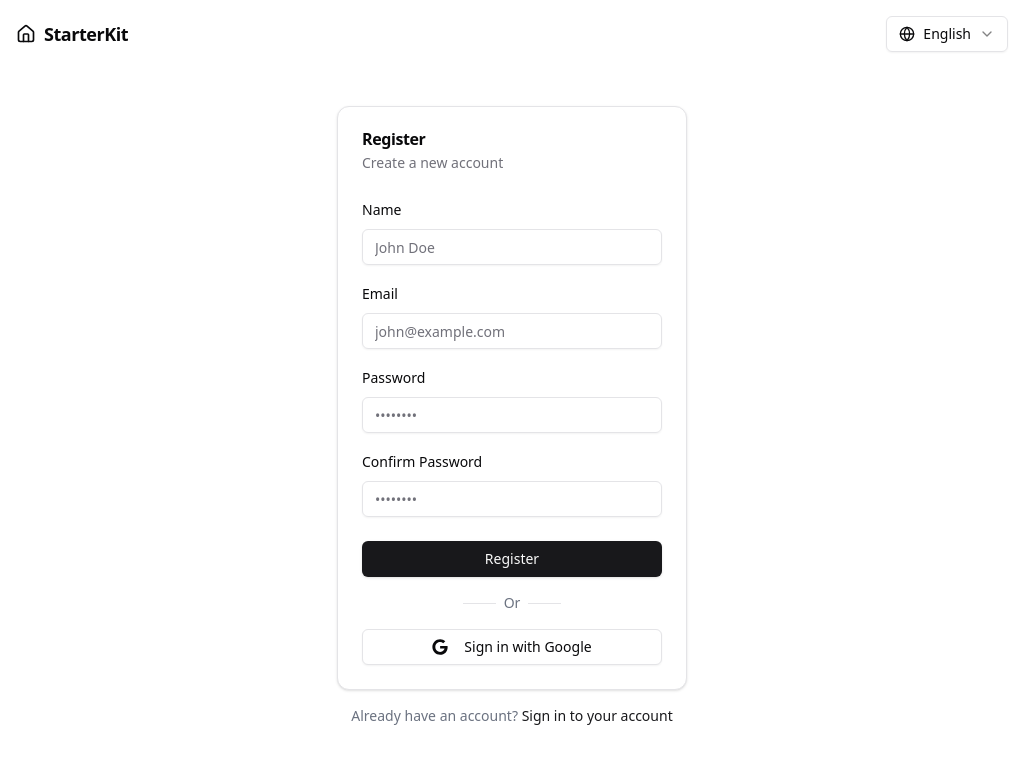
Test: AuthPage › displays error when passwords do not match
# Fill in mismatched passwords
In the password field labelled "Password": (512, 415) [362,397,662,433], type "Test123!"
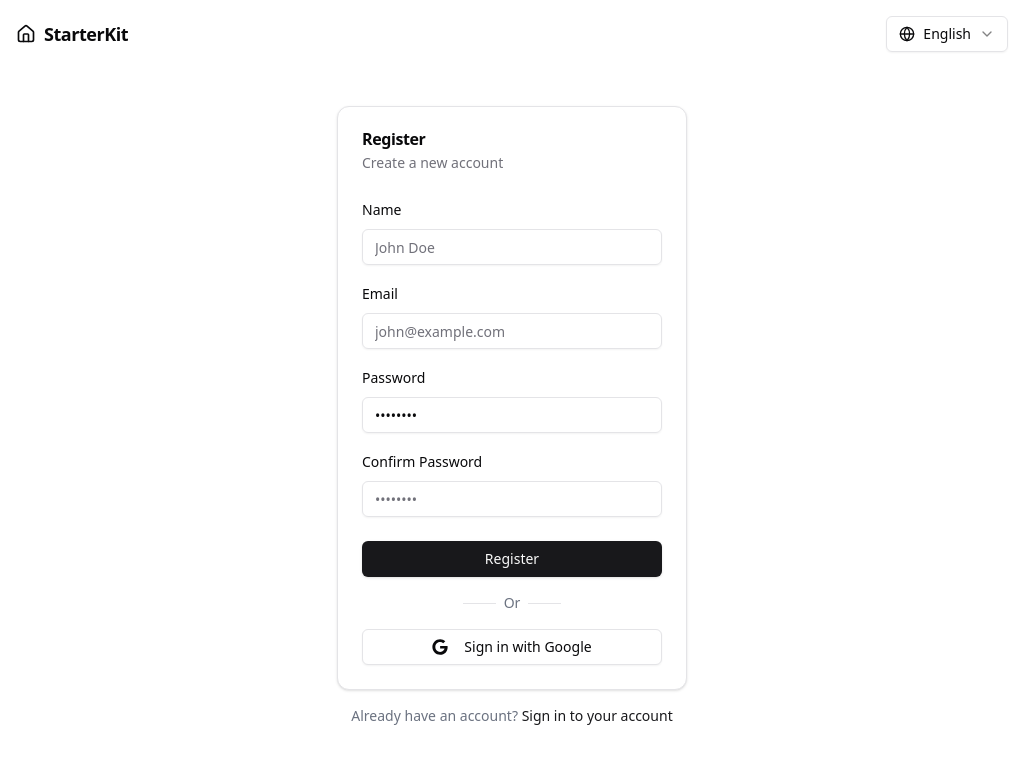
In the password field labelled "Confirm Password": (512, 499) [362,481,662,517], type "Test123!!"
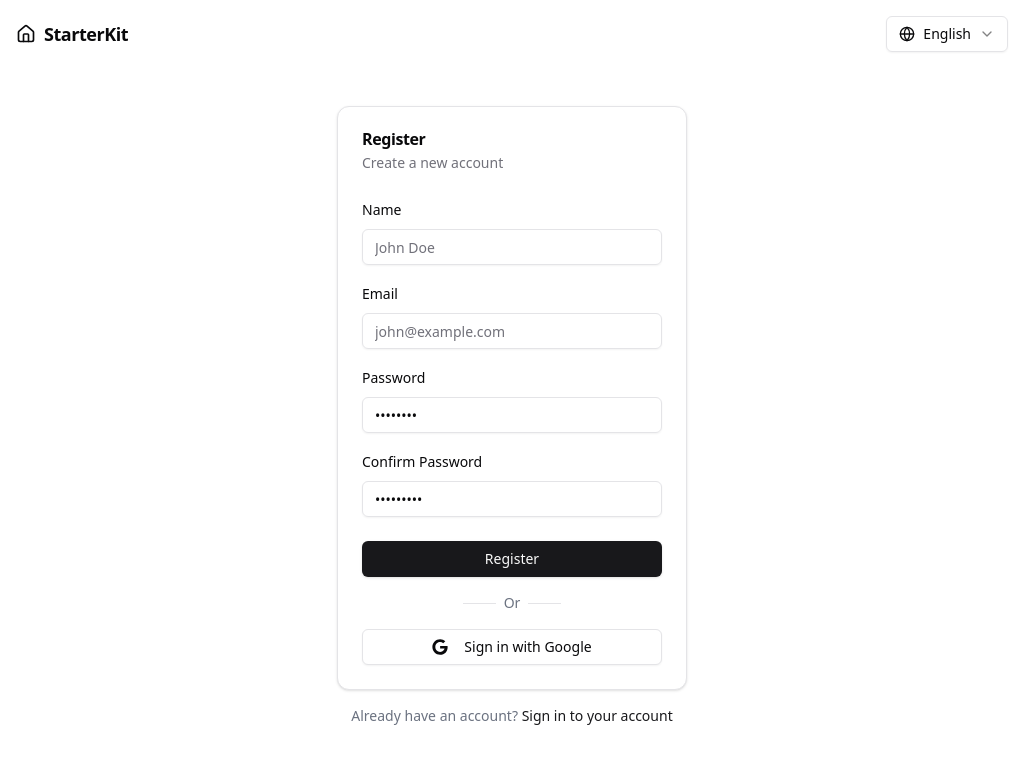
Submit the form with test id "register-form", box [338,197,686,689]
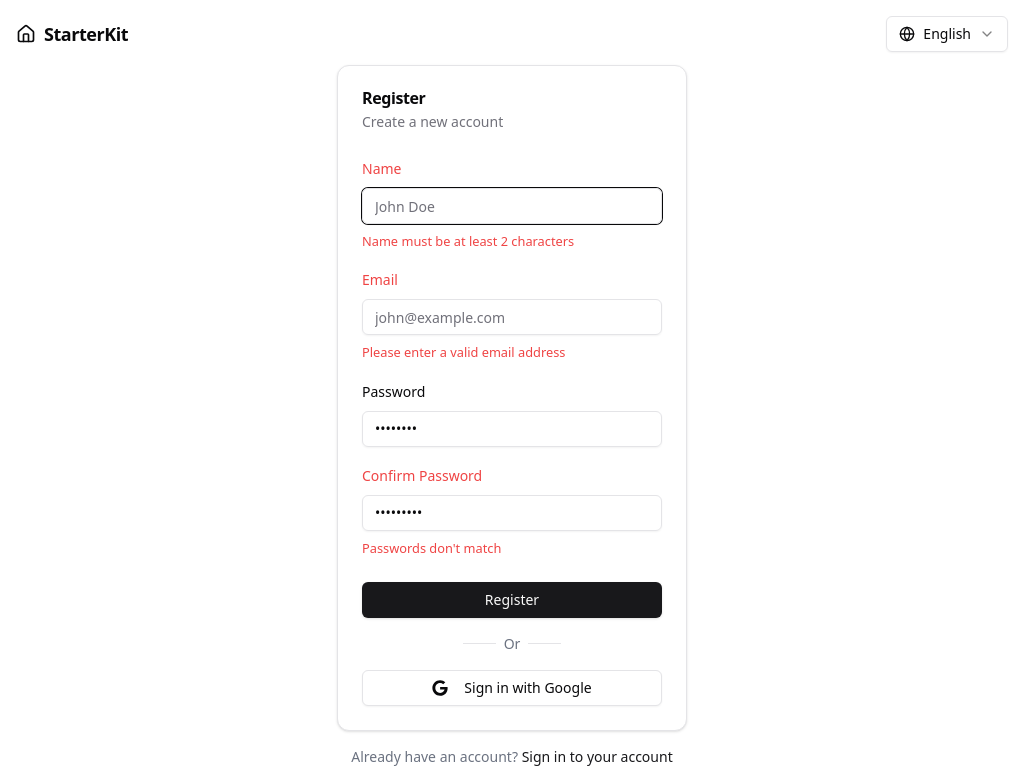
Expected: the text "Passwords don't match" is shown, [362,539,501,557]
